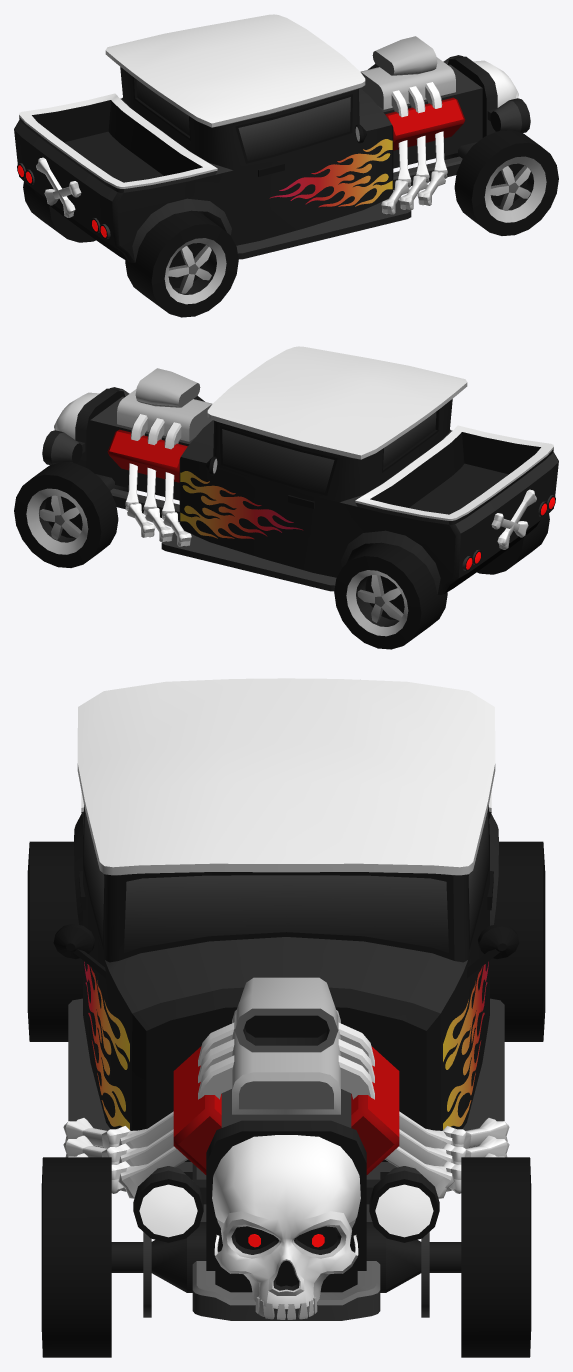
Rendered from Car_242.glb.
The picture shows the model from 3 angles, top to bottom: view 1: azimuth 30°, elevation 25°; view 2: azimuth 150°, elevation 25°; view 3: azimuth 270°, elevation 25°; orthographic projection. The views are drawn at different scales.
Parts seen in each view (by area): view 1: Car_242, wheel_3_Car_242_Wheel_2R, wheel_1_Car_242_Wheel_1R, wheel_2_Car_242_Wheel_2L; view 2: Car_242, wheel_2_Car_242_Wheel_2L, wheel_0_Car_242_Wheel_1L, wheel_3_Car_242_Wheel_2R; view 3: Car_242, wheel_0_Car_242_Wheel_1L, wheel_1_Car_242_Wheel_1R, wheel_2_Car_242_Wheel_2L, wheel_3_Car_242_Wheel_2R.
Part boxes in pixels (x1,y1,x2,y2): Car_242: [14, 14, 530, 262]; wheel_3_Car_242_Wheel_2R: [125, 210, 238, 317]; wheel_1_Car_242_Wheel_1R: [454, 130, 558, 235]; wheel_2_Car_242_Wheel_2L: [23, 182, 95, 242]; Car_242: [42, 346, 558, 594]; wheel_2_Car_242_Wheel_2L: [334, 542, 447, 649]; wheel_0_Car_242_Wheel_1L: [14, 462, 118, 567]; wheel_3_Car_242_Wheel_2R: [477, 514, 549, 574]; Car_242: [53, 678, 519, 1320]; wheel_0_Car_242_Wheel_1L: [461, 1157, 531, 1357]; wheel_1_Car_242_Wheel_1R: [41, 1157, 111, 1357]; wheel_2_Car_242_Wheel_2L: [490, 841, 545, 1041]; wheel_3_Car_242_Wheel_2R: [27, 841, 82, 1041].
Bounding box in the file's own units: 3.95 × 1.53 × 1.93.
Materials: 3 (3 with a texture image).
